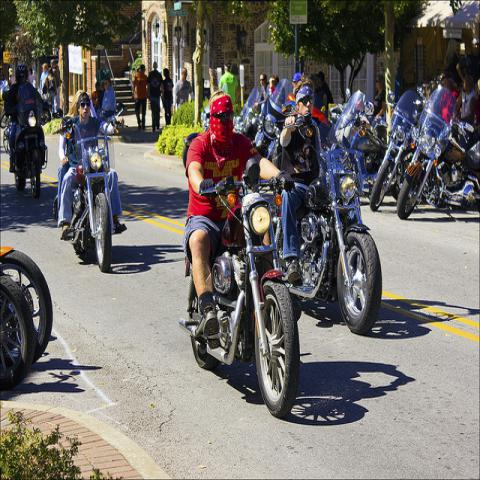motorcycle: (179, 159, 300, 418), (283, 113, 389, 333), (52, 102, 128, 273), (397, 86, 479, 223), (367, 84, 423, 210), (2, 243, 56, 367), (332, 85, 390, 176), (8, 83, 49, 200), (1, 275, 34, 392), (255, 78, 294, 164), (232, 87, 260, 145)
